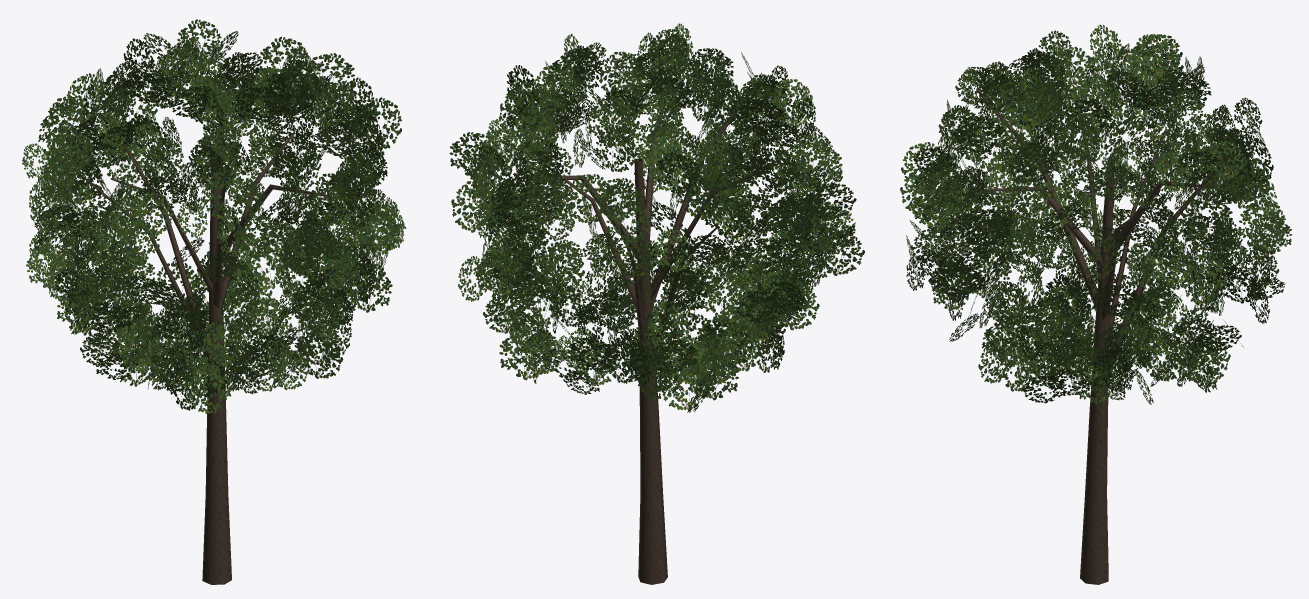
The model's file is tpl_yard_old_meadow_elm.glb.
3 renders of one model, left to right at view 1: azimuth 30°, elevation 25°; view 2: azimuth 150°, elevation 25°; view 3: azimuth 270°, elevation 25°, orthographic.
Parts seen in each view (by area): view 1: tpl_yard_old_meadow_elm; view 2: tpl_yard_old_meadow_elm; view 3: tpl_yard_old_meadow_elm.
Part boxes in pixels (left/top/right/bottom): tpl_yard_old_meadow_elm: left=22, top=19, right=406, bottom=584; tpl_yard_old_meadow_elm: left=449, top=23, right=864, bottom=584; tpl_yard_old_meadow_elm: left=900, top=24, right=1291, bottom=584.
Size of the model in its own units: 14.3 by 19.81 by 13.5.
Materials: 2 (2 with a texture image).
